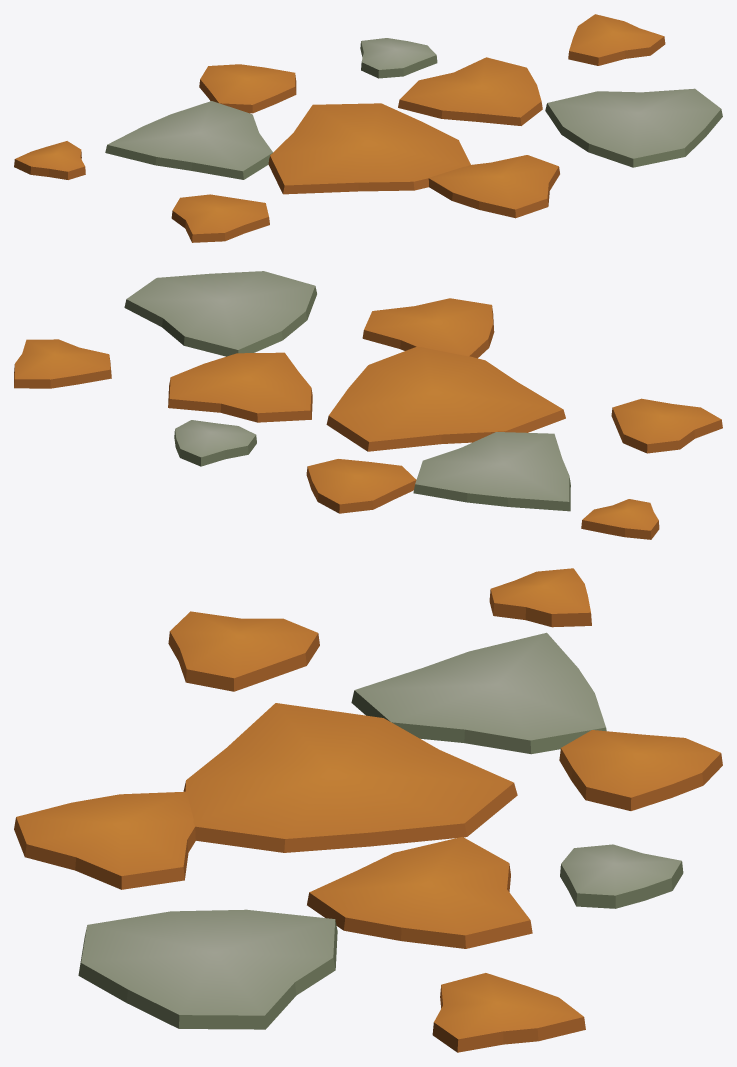
Rendered from LichenCrust_leaf.glb.
3 views of the same model, one above another, from view 1: azimuth 30°, elevation 25°; view 2: azimuth 150°, elevation 25°; view 3: azimuth 270°, elevation 25° (orthographic). The views are drawn at different scales.
Parts seen in each view (by area): view 1: LichenCrust_leaf; view 2: LichenCrust_leaf; view 3: LichenCrust_leaf.
Boxes of the visible parts, bbox=[...] form: LichenCrust_leaf: bbox=[14, 14, 722, 242]; LichenCrust_leaf: bbox=[14, 271, 722, 539]; LichenCrust_leaf: bbox=[14, 568, 722, 1052].
Bounding box in the file's own units: 4.75 × 0.0965 × 3.02.
